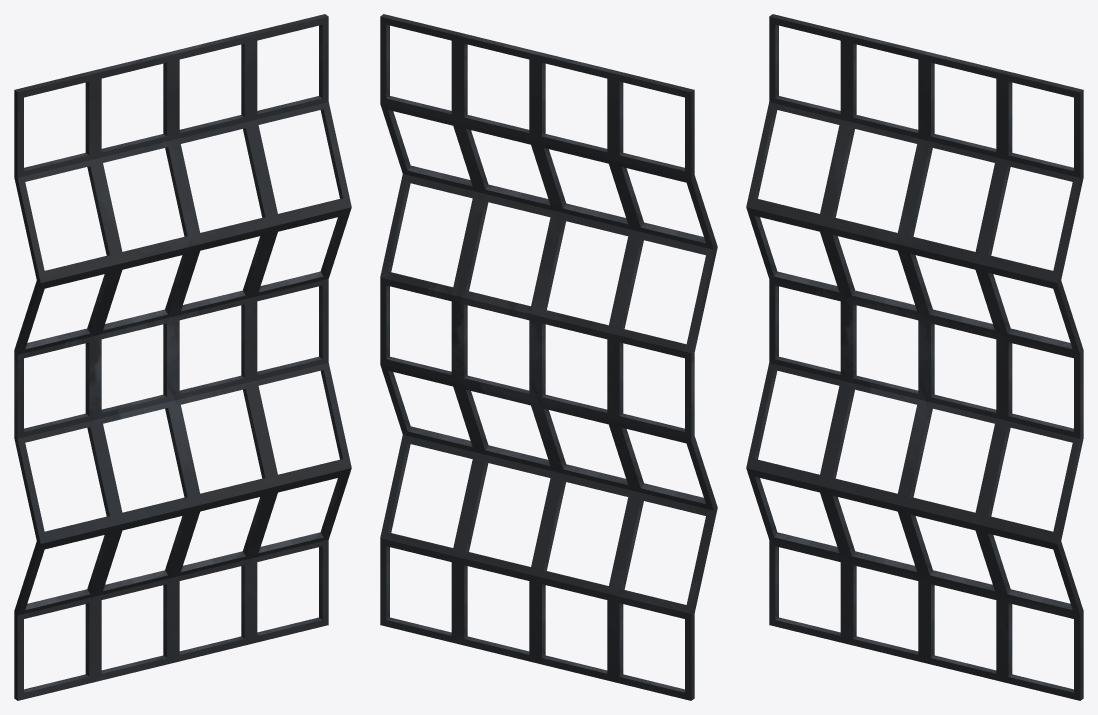
Rendered from Lattice.fbx.
The picture shows the model from 3 angles, left to right: view 1: azimuth 30°, elevation 25°; view 2: azimuth 150°, elevation 25°; view 3: azimuth 330°, elevation 25°; orthographic projection.
Parts seen in each view (by area): view 1: Lattice; view 2: Lattice; view 3: Lattice.
Part boxes in pixels (x1,y1,x2,y2): Lattice: [14, 14, 351, 700]; Lattice: [380, 14, 717, 700]; Lattice: [746, 14, 1083, 700].
Size of the model in its own units: 50.6 by 94.58 by 7.48.
